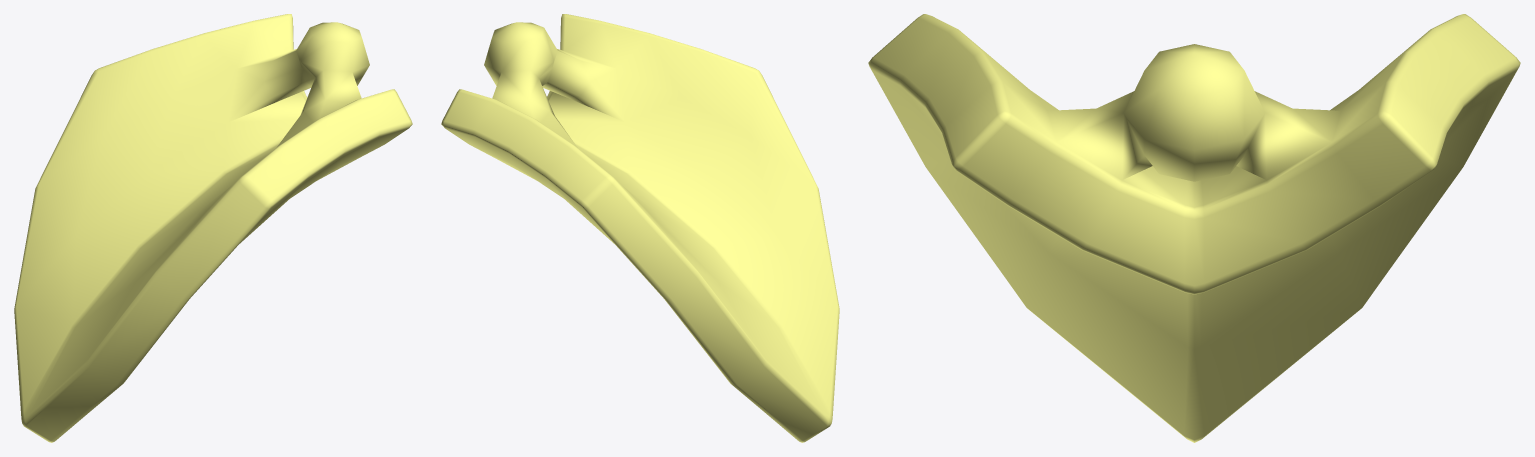
The model's file is Unit_Armor_Spine2.FBX.
3 views of the same model, side by side, from view 1: azimuth 30°, elevation 25°; view 2: azimuth 150°, elevation 25°; view 3: azimuth 270°, elevation 25° (orthographic). The views are drawn at different scales.
Visible parts, largest first — view 1: Unit_Armor_Spine2; view 2: Unit_Armor_Spine2; view 3: Unit_Armor_Spine2.
Part boxes in pixels (x1,y1,x2,y2): Unit_Armor_Spine2: (14,14,412,442); Unit_Armor_Spine2: (441,14,839,442); Unit_Armor_Spine2: (868,14,1520,442).
Bounding box in the file's own units: 18.1 × 17.65 × 16.14.
